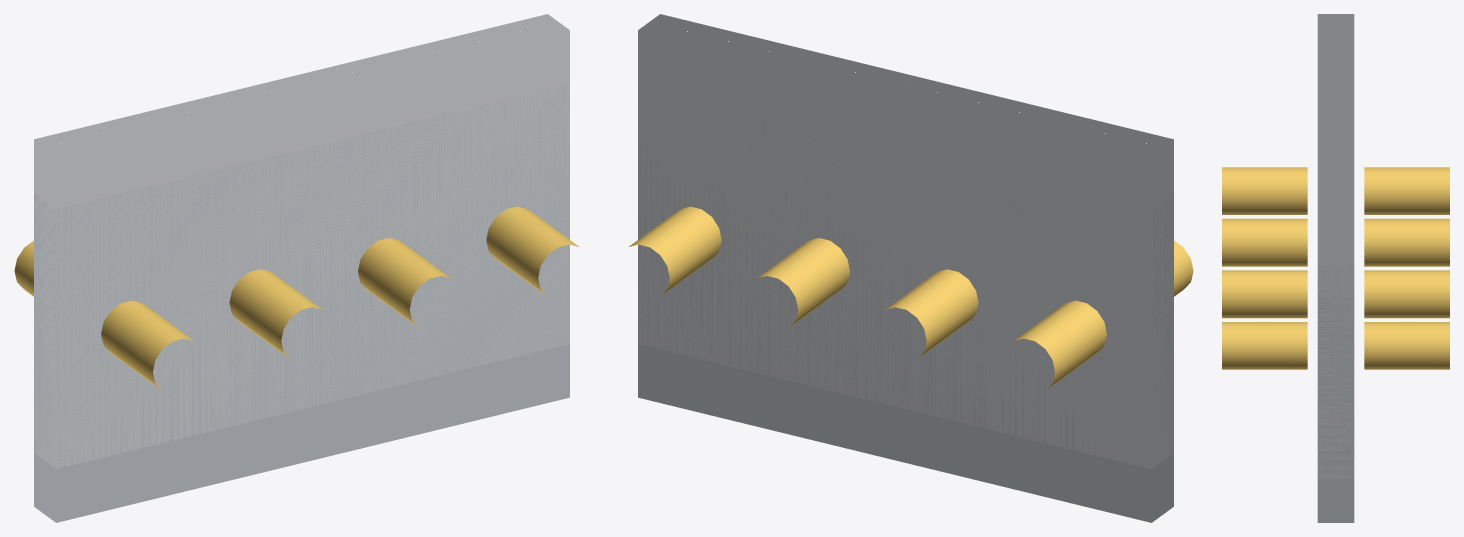
The model's file is rivet_joint_designer.glb.
The picture shows the model from 3 angles, left to right: view 1: azimuth 30°, elevation 25°; view 2: azimuth 150°, elevation 25°; view 3: azimuth 270°, elevation 25°; orthographic projection. The views are drawn at different scales.
Visible parts, largest first — view 1: PlateTop, PlateBottom, Rivet_1_3, Rivet_1_1, Rivet_1_0, Rivet_1_2, Rivet_0_0; view 2: PlateTop, PlateBottom, Rivet_0_3, Rivet_0_1, Rivet_0_0, Rivet_0_2, Rivet_1_0; view 3: PlateTop, PlateBottom, Rivet_0_1, Rivet_0_2, Rivet_1_1, Rivet_1_2, Rivet_0_0, Rivet_0_3, Rivet_1_0, Rivet_1_3.
Boxes of the visible parts, x1=… form: PlateTop: x1=34, y1=14, x2=569, y2=469; PlateBottom: x1=34, y1=85, x2=569, y2=522; Rivet_1_3: x1=486, y1=206, x2=578, y2=295; Rivet_1_1: x1=229, y1=269, x2=322, y2=358; Rivet_1_0: x1=101, y1=300, x2=193, y2=390; Rivet_1_2: x1=358, y1=238, x2=450, y2=327; Rivet_0_0: x1=14, y1=240, x2=33, y2=296; PlateTop: x1=638, y1=14, x2=1173, y2=469; PlateBottom: x1=638, y1=85, x2=1173, y2=522; Rivet_0_3: x1=629, y1=206, x2=721, y2=295; Rivet_0_1: x1=885, y1=269, x2=978, y2=358; Rivet_0_0: x1=1014, y1=300, x2=1106, y2=390; Rivet_0_2: x1=757, y1=238, x2=849, y2=327; Rivet_1_0: x1=1174, y1=240, x2=1193, y2=296; PlateTop: x1=1317, y1=14, x2=1354, y2=478; PlateBottom: x1=1317, y1=264, x2=1354, y2=522; Rivet_0_1: x1=1364, y1=218, x2=1449, y2=266; Rivet_0_2: x1=1364, y1=270, x2=1449, y2=318; Rivet_1_1: x1=1222, y1=218, x2=1307, y2=266; Rivet_1_2: x1=1222, y1=270, x2=1307, y2=318; Rivet_0_0: x1=1364, y1=167, x2=1449, y2=214; Rivet_0_3: x1=1364, y1=322, x2=1449, y2=369; Rivet_1_0: x1=1222, y1=167, x2=1307, y2=214; Rivet_1_3: x1=1222, y1=322, x2=1307, y2=369.
Bounding box in the file's own units: 2.4 × 1.64 × 1.12.
